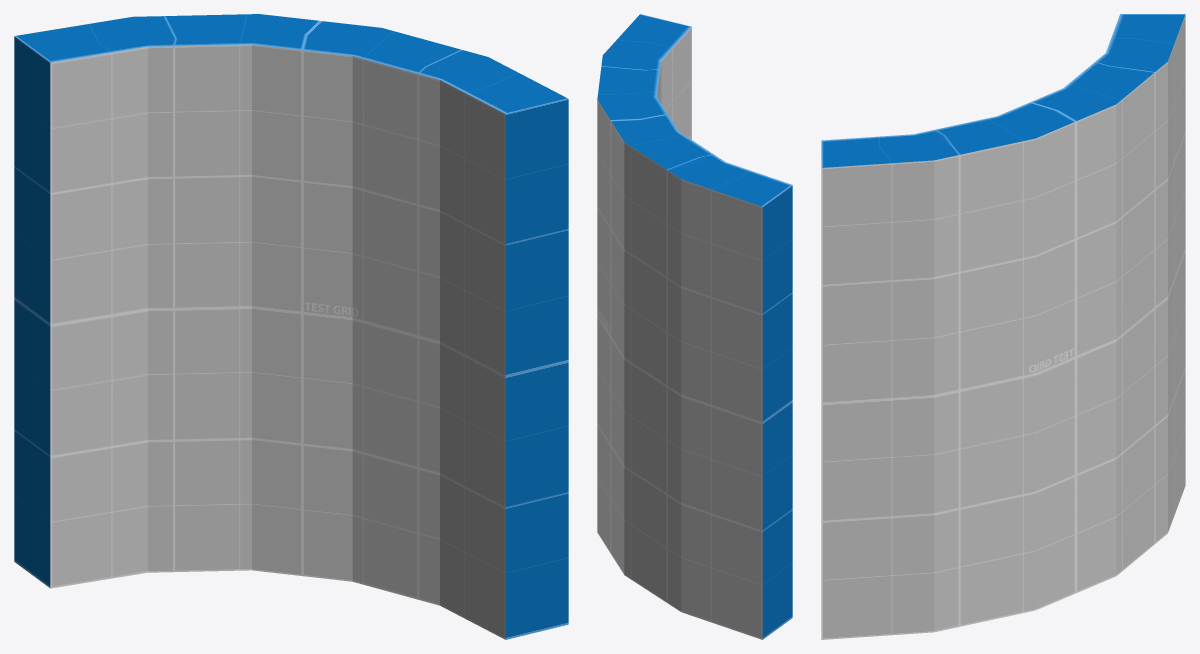
Rendered from Fragged Objects Model _LowPoly +1.fbx.
3 renders of one model, left to right at view 1: azimuth 30°, elevation 25°; view 2: azimuth 150°, elevation 25°; view 3: azimuth 270°, elevation 25°, orthographic. The views are drawn at different scales.
Parts seen in each view (by area): view 1: WallCorner_LowPoly, WallCorner_LowPoly_25, WallCorner_LowPoly_28, WallCorner_LowPoly_13, WallCorner_LowPoly_20, WallCorner_LowPoly_11, WallCorner_LowPoly_21, WallCorner_LowPoly_2, WallCorner_LowPoly_16, WallCorner_LowPoly_29, WallCorner_LowPoly_4, WallCorner_LowPoly_9 (+1 smaller); view 2: WallCorner_LowPoly_2, WallCorner_LowPoly_25, WallCorner_LowPoly, WallCorner_LowPoly_21, WallCorner_LowPoly_1, WallCorner_LowPoly_8, WallCorner_LowPoly_27, WallCorner_LowPoly_17, WallCorner_LowPoly_22, WallCorner_LowPoly_9, WallCorner_LowPoly_30, WallCorner_LowPoly_3 (+8 smaller); view 3: WallCorner_LowPoly, WallCorner_LowPoly_22, WallCorner_LowPoly_5, WallCorner_LowPoly_1, WallCorner_LowPoly_11, WallCorner_LowPoly_3, WallCorner_LowPoly_2, WallCorner_LowPoly_14, WallCorner_LowPoly_27, WallCorner_LowPoly_7, WallCorner_LowPoly_20, WallCorner_LowPoly_30 (+12 smaller).
Boxes of the visible parts, x1,y1,x2,y2 form: WallCorner_LowPoly: [15, 14, 568, 639]; WallCorner_LowPoly_25: [14, 25, 103, 281]; WallCorner_LowPoly_28: [453, 467, 505, 639]; WallCorner_LowPoly_13: [440, 395, 505, 510]; WallCorner_LowPoly_20: [441, 54, 550, 229]; WallCorner_LowPoly_11: [440, 262, 505, 385]; WallCorner_LowPoly_21: [14, 262, 50, 405]; WallCorner_LowPoly_2: [14, 394, 50, 551]; WallCorner_LowPoly_16: [440, 202, 505, 308]; WallCorner_LowPoly_29: [440, 121, 505, 242]; WallCorner_LowPoly_4: [440, 334, 505, 399]; WallCorner_LowPoly_9: [14, 489, 50, 588]; WallCorner_LowPoly_2: [621, 460, 792, 631]; WallCorner_LowPoly_25: [718, 175, 792, 392]; WallCorner_LowPoly: [597, 14, 791, 206]; WallCorner_LowPoly_21: [677, 365, 792, 494]; WallCorner_LowPoly_1: [604, 139, 742, 285]; WallCorner_LowPoly_8: [673, 175, 739, 366]; WallCorner_LowPoly_27: [615, 349, 677, 482]; WallCorner_LowPoly_17: [653, 400, 792, 501]; WallCorner_LowPoly_22: [597, 195, 618, 430]; WallCorner_LowPoly_9: [627, 536, 792, 639]; WallCorner_LowPoly_30: [606, 218, 645, 350]; WallCorner_LowPoly_3: [597, 480, 627, 577]; WallCorner_LowPoly: [821, 14, 1184, 639]; WallCorner_LowPoly_22: [1004, 230, 1099, 447]; WallCorner_LowPoly_5: [913, 79, 1109, 248]; WallCorner_LowPoly_1: [1055, 49, 1172, 242]; WallCorner_LowPoly_11: [934, 247, 1020, 389]; WallCorner_LowPoly_3: [963, 493, 1119, 625]; WallCorner_LowPoly_2: [1106, 336, 1185, 535]; WallCorner_LowPoly_14: [956, 470, 1107, 587]; WallCorner_LowPoly_27: [1088, 280, 1164, 485]; WallCorner_LowPoly_7: [957, 410, 1090, 492]; WallCorner_LowPoly_20: [822, 134, 972, 265]; WallCorner_LowPoly_30: [1064, 239, 1135, 346].
Size of the model in its own units: 280 by 400 by 280.
